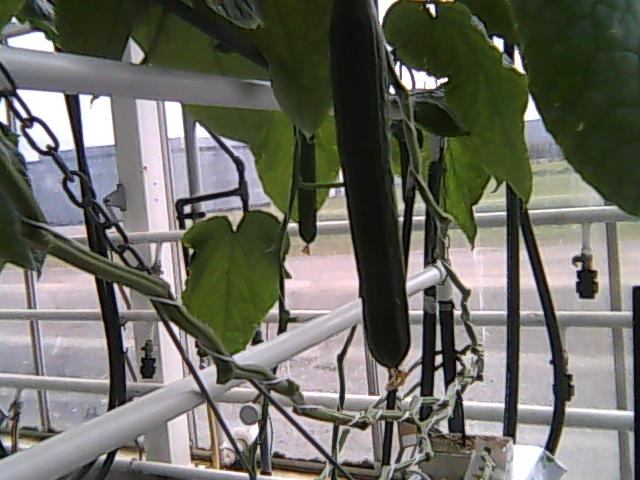concombre: (322, 1, 414, 393)
